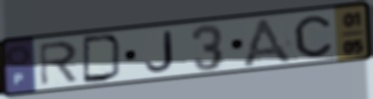3: (190, 22, 224, 73)
A: (238, 16, 297, 67)
C: (292, 14, 334, 59)
D: (80, 33, 125, 85)
J: (143, 29, 177, 74)
R: (36, 39, 80, 88)
